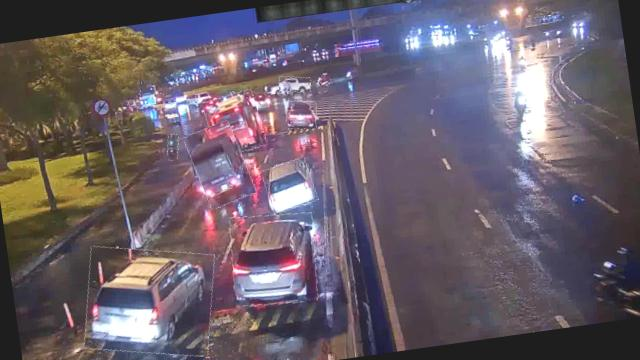Bike: (514, 88, 532, 118), (164, 133, 180, 160)
Bus: (203, 89, 266, 158)
Car: (76, 236, 222, 360), (225, 208, 322, 310), (262, 158, 317, 213), (283, 98, 318, 130), (278, 73, 312, 94)
Truck: (185, 120, 253, 209)
